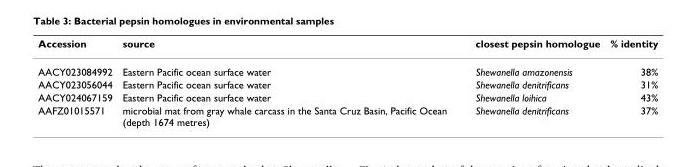table: (37, 36, 657, 127)
table column: (116, 36, 460, 127), (460, 36, 604, 127), (37, 36, 116, 127), (604, 36, 657, 127)
table column header: (37, 36, 657, 57)
table row: (37, 103, 657, 127), (37, 36, 657, 57), (37, 57, 657, 77), (37, 77, 657, 90), (37, 90, 657, 103)
